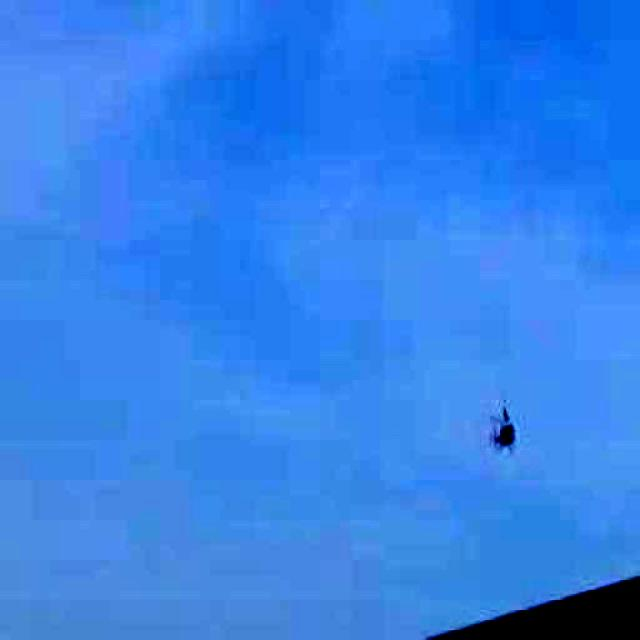drone: (476, 389, 538, 472)
